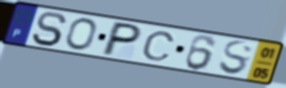6: (184, 33, 217, 72)
C: (140, 30, 177, 62)
O: (63, 17, 98, 52)
P: (98, 20, 144, 57)
S: (29, 10, 69, 48), (217, 40, 255, 77)
